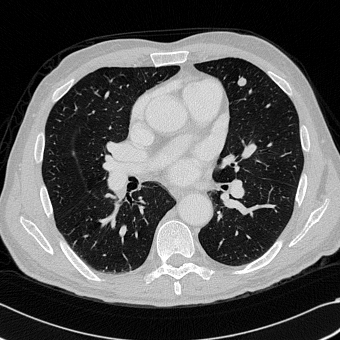nodule: (238, 78, 246, 86)
